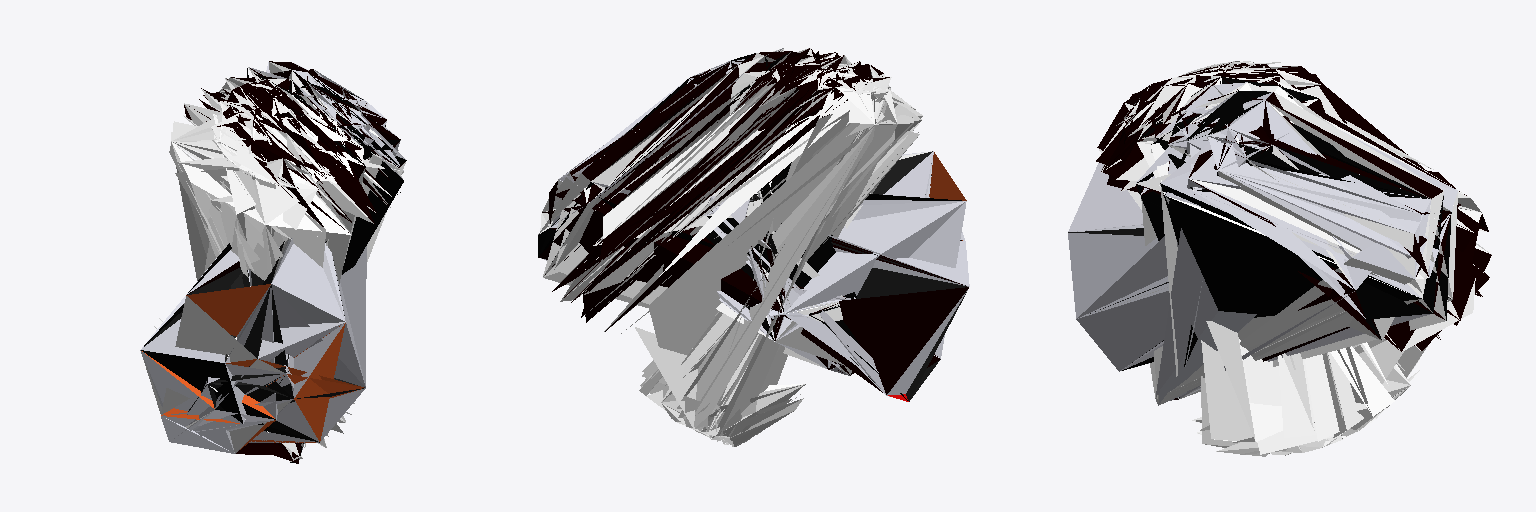
File: E-TIE-DV.obj
The picture shows the model from 3 angles: view 1: azimuth 30°, elevation 25°; view 2: azimuth 150°, elevation 25°; view 3: azimuth 270°, elevation 25°; orthographic projection.
Parts seen in each view (by area): view 1: TD_HATCH, TD_WINDOW, TD_BODY, TD_DV_FLAT, TD_SlrCell, TD_Detail, TD_Pyron, TD_frame, TD_dash, TD_Seat; view 2: TD_HATCH, TD_WINDOW, TD_frame, TD_BODY, TD_SlrCell, TD_Seat, TD_Pyron, TD_DV_FLAT, TD_Detail; view 3: TD_HATCH, TD_BODY, TD_SlrCell, TD_WINDOW, TD_DV_FLAT, TD_frame.
Boxes of the visible parts, x1,y1,x2,y2 form: TD_HATCH: [140, 62, 405, 461]; TD_WINDOW: [184, 61, 404, 463]; TD_BODY: [141, 63, 405, 453]; TD_DV_FLAT: [156, 238, 365, 453]; TD_SlrCell: [141, 68, 406, 463]; TD_Detail: [142, 284, 363, 449]; TD_Pyron: [141, 247, 318, 442]; TD_frame: [204, 62, 403, 459]; TD_dash: [144, 270, 363, 407]; TD_Seat: [188, 241, 364, 411]; TD_HATCH: [538, 48, 931, 446]; TD_WINDOW: [538, 48, 968, 394]; TD_frame: [541, 62, 965, 396]; TD_BODY: [551, 48, 968, 375]; TD_SlrCell: [538, 52, 965, 400]; TD_Seat: [711, 151, 966, 401]; TD_Pyron: [712, 176, 969, 394]; TD_DV_FLAT: [707, 151, 967, 395]; TD_Detail: [929, 152, 966, 240]; TD_HATCH: [1098, 61, 1491, 456]; TD_BODY: [1077, 82, 1457, 405]; TD_SlrCell: [1122, 77, 1451, 399]; TD_WINDOW: [1096, 62, 1491, 399]; TD_DV_FLAT: [1068, 163, 1169, 371]; TD_frame: [1077, 92, 1443, 403].
Bounding box in the file's own units: 81.86 × 90.32 × 94.79.